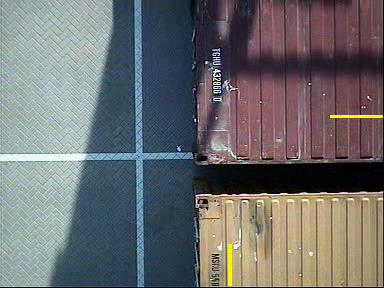groundmarker_2: (92, 72, 170, 123), (95, 211, 173, 262)
